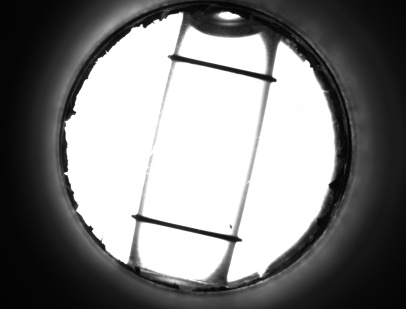line: (182, 54, 259, 82), (149, 214, 221, 243)
